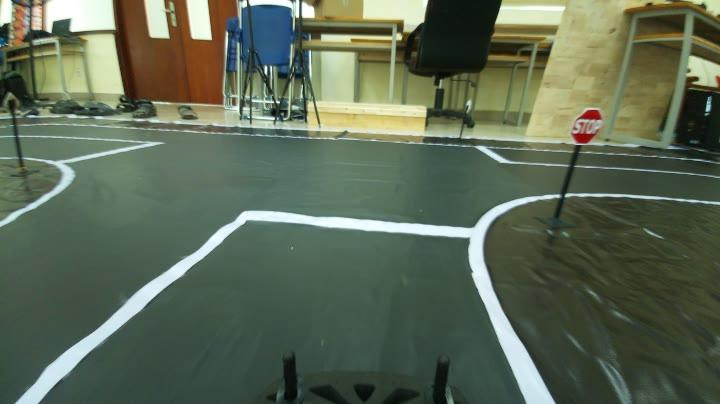stop: (570, 100, 604, 148)
